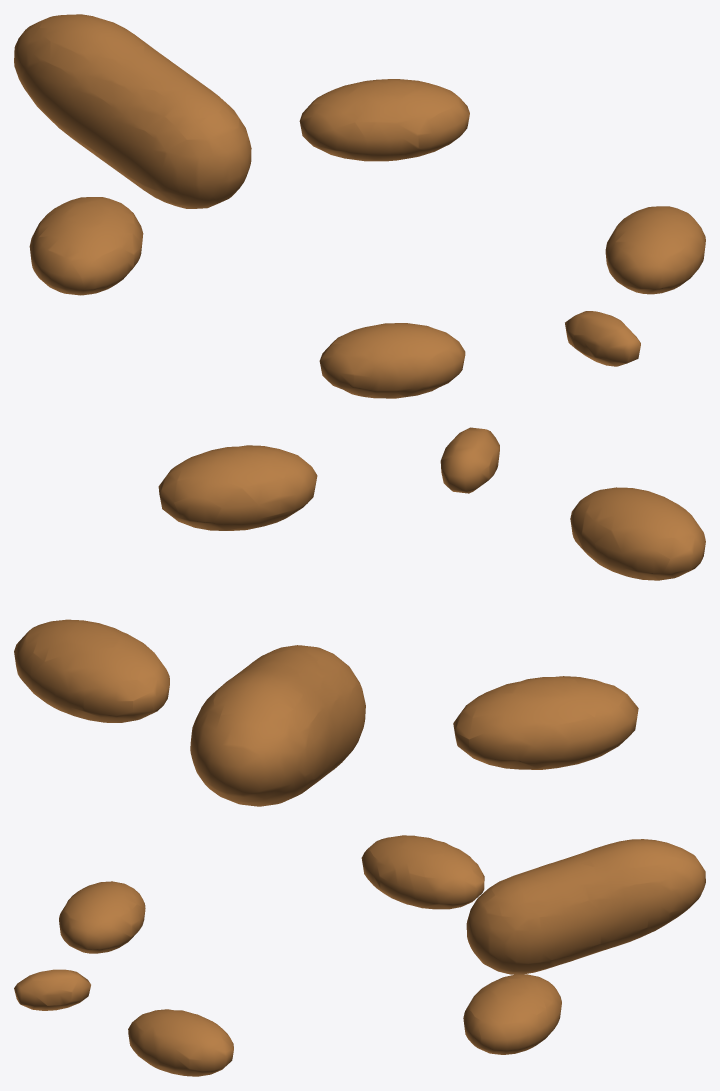
Rendered from pet_turtle.glb.
3 renders of one model, top to bottom at view 1: azimuth 30°, elevation 25°; view 2: azimuth 150°, elevation 25°; view 3: azimuth 270°, elevation 25°, orthographic. The views are drawn at different scales.
Parts seen in each view (by area): view 1: sculpture_turtle; view 2: sculpture_turtle; view 3: sculpture_turtle.
Part boxes in pixels (x1,y1,x2,y2): sculpture_turtle: (14,14,705,398); sculpture_turtle: (14,427,705,806); sculpture_turtle: (14,835,705,1076).
Bounding box in the file's own units: 0.9373 × 0.2272 × 1.27.
